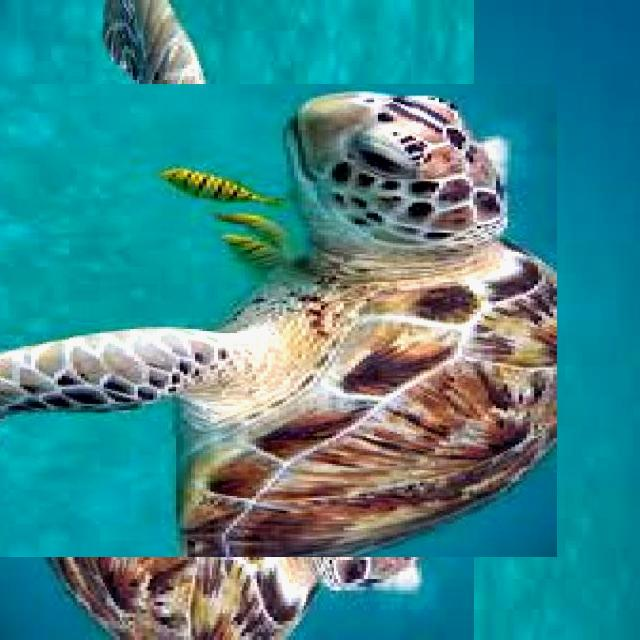Sea turtle: (0, 41, 515, 598)
